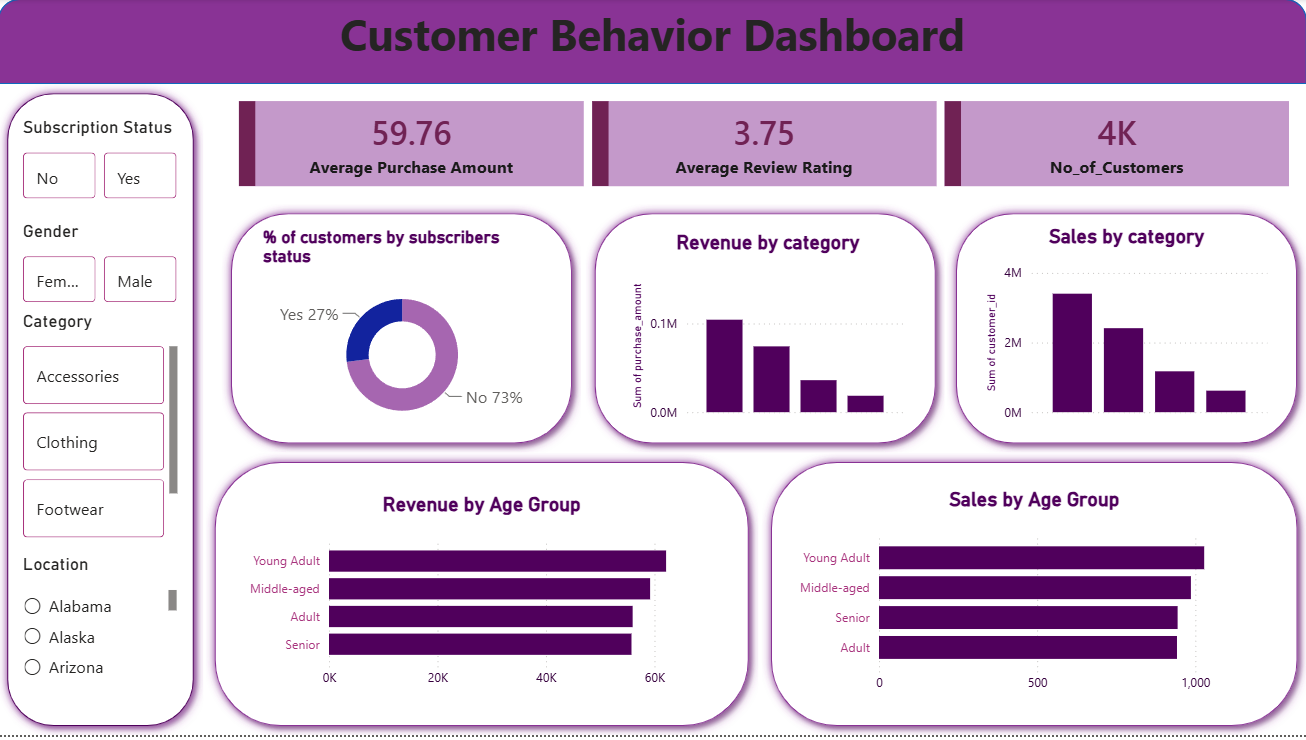

Layout of this report page (visuals, bound fields, positions):
{"tool":"powerbi","page":{"name":"Page 1","canvas":[1280,720],"ordinal":0},"visuals":[{"type":"group","id":"g1","title":"Group 2","box":[203,443.9,1077.3,276.4],"z":0},{"type":"group","id":"g2","title":"Group 1","box":[218.9,200.5,1061.4,243.3],"z":1000},{"type":"shape","box":[0,0,1280.3,83.2],"z":3000},{"type":"textbox","box":[0,0,1280.3,83.2],"z":4000},{"type":"shape","box":[574.9,200.5,351.6,243.3],"z":4000,"group":"g2"},{"type":"shape","box":[928.7,200.5,351.6,243.3],"z":5000,"group":"g2"},{"type":"donutChart","title":"% of customers by subscribers status","fields":{"Category":["customer_behaviour customer.subscription_status"],"Y":["CountNonNull(customer_behaviour customer.customer_id)"]},"box":[254.3,222.6,282.5,201.8],"z":5000},{"type":"shape","box":[218.9,200.5,351.6,243.3],"z":6000,"group":"g2"},{"type":"clusteredColumnChart","title":"Revenue by category","fields":{"Y":["Sum(customer_behaviour customer.purchase_amount)"],"Category":["customer_behaviour customer.category"]},"box":[615.1,227.4,276.4,190.8],"z":6000},{"type":"clusteredColumnChart","title":"Sales by category","fields":{"Category":["customer_behaviour customer.category"],"Y":["Sum(customer_behaviour customer.customer_id)"]},"box":[961.1,221.3,286.1,196.9],"z":7000},{"type":"shape","box":[203,443.9,540.5,276.4],"z":7000,"group":"g1"},{"type":"shape","box":[0,83.2,200.5,637.1],"z":8000},{"type":"advancedSlicerVisual","fields":{"Values":["customer_behaviour customer.subscription_status"]},"box":[19.6,114.9,161.4,85.6],"z":9000},{"type":"advancedSlicerVisual","fields":{"Values":["customer_behaviour customer.gender"]},"box":[19.6,216.4,161.4,85.6],"z":10000},{"type":"advancedSlicerVisual","fields":{"Values":["customer_behaviour customer.category"]},"box":[19.6,304.5,161.4,228.7],"z":11000},{"type":"listSlicer","fields":{"Values":["customer_behaviour customer.location"]},"box":[19.6,542.9,160.2,132.1],"z":12000},{"type":"clusteredBarChart","title":"Revenue by Age Group","fields":{"Y":["Sum(customer_behaviour customer.purchase_amount)"],"Category":["customer_behaviour customer.age_group"]},"box":[236,483,474.5,199.3],"z":13000},{"type":"shape","box":[747.2,443.9,533.1,276.4],"z":14000,"group":"g1"},{"type":"clusteredBarChart","title":"Sales by Age Group","fields":{"Y":["CountNonNull(customer_behaviour customer.purchase_amount)"],"Category":["customer_behaviour customer.age_group"]},"box":[774.1,478.1,479.4,209.1],"z":14000},{"type":"cardVisual","fields":{"Data":["customer_behaviour customer.average purchase amount","customer_behaviour customer.average review rating","customer_behaviour customer.No_of_Customers"]},"box":[218.9,83.2,1061.4,117.4],"z":14001}]}

Visuals, with their boxes in screenshot pixels (x1, y1, x2, y2), scaled from the page's 1280x720 canvas onto the 1306x740 screenshot:
"Group 2" group: {"left": 207, "top": 456, "right": 1305, "bottom": 739}
"Group 1" group: {"left": 223, "top": 206, "right": 1305, "bottom": 456}
shape: {"left": 0, "top": 0, "right": 1305, "bottom": 86}
textbox: {"left": 0, "top": 0, "right": 1305, "bottom": 86}
shape: {"left": 587, "top": 206, "right": 945, "bottom": 456}
shape: {"left": 948, "top": 206, "right": 1305, "bottom": 456}
"% of customers by subscribers status" donutChart: {"left": 259, "top": 229, "right": 548, "bottom": 436}
shape: {"left": 223, "top": 206, "right": 582, "bottom": 456}
"Revenue by category" clusteredColumnChart: {"left": 628, "top": 234, "right": 910, "bottom": 430}
"Sales by category" clusteredColumnChart: {"left": 981, "top": 227, "right": 1273, "bottom": 430}
shape: {"left": 207, "top": 456, "right": 759, "bottom": 739}
shape: {"left": 0, "top": 86, "right": 205, "bottom": 739}
advancedSlicerVisual - customer_behaviour customer.subscription_status: {"left": 20, "top": 118, "right": 185, "bottom": 206}
advancedSlicerVisual - customer_behaviour customer.gender: {"left": 20, "top": 222, "right": 185, "bottom": 310}
advancedSlicerVisual - customer_behaviour customer.category: {"left": 20, "top": 313, "right": 185, "bottom": 548}
listSlicer - customer_behaviour customer.location: {"left": 20, "top": 558, "right": 183, "bottom": 694}
"Revenue by Age Group" clusteredBarChart: {"left": 241, "top": 496, "right": 725, "bottom": 701}
shape: {"left": 762, "top": 456, "right": 1305, "bottom": 739}
"Sales by Age Group" clusteredBarChart: {"left": 790, "top": 491, "right": 1279, "bottom": 706}
cardVisual - customer_behaviour customer.average purchase amount x customer_behaviour customer.average review rating: {"left": 223, "top": 86, "right": 1305, "bottom": 206}
